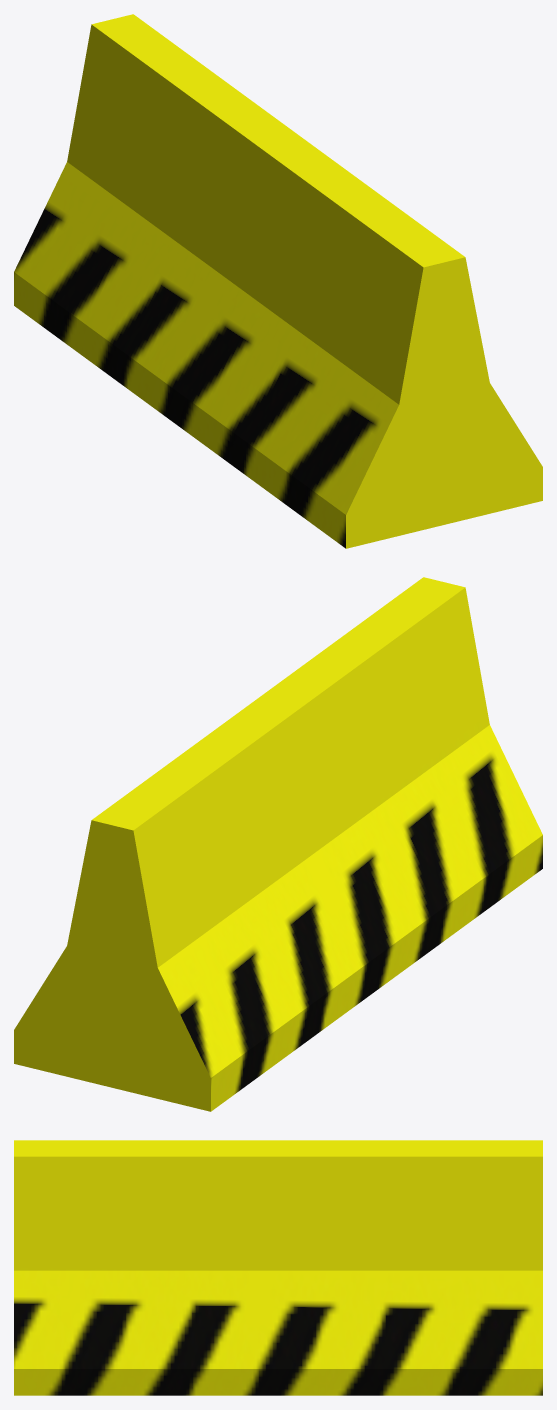
File: barior_3.fbx
3 views of the same model, one above another, from view 1: azimuth 30°, elevation 25°; view 2: azimuth 150°, elevation 25°; view 3: azimuth 270°, elevation 25° (orthographic). The views are drawn at different scales.
Parts seen in each view (by area): view 1: Barrier.001; view 2: Barrier.001; view 3: Barrier.001.
Part boxes in pixels (<box>): Barrier.001: <box>14,14,542,548</box>; Barrier.001: <box>14,577,542,1111</box>; Barrier.001: <box>14,1140,542,1395</box>.
Bounding box in the file's own units: 14.8 × 18.85 × 43.24.
